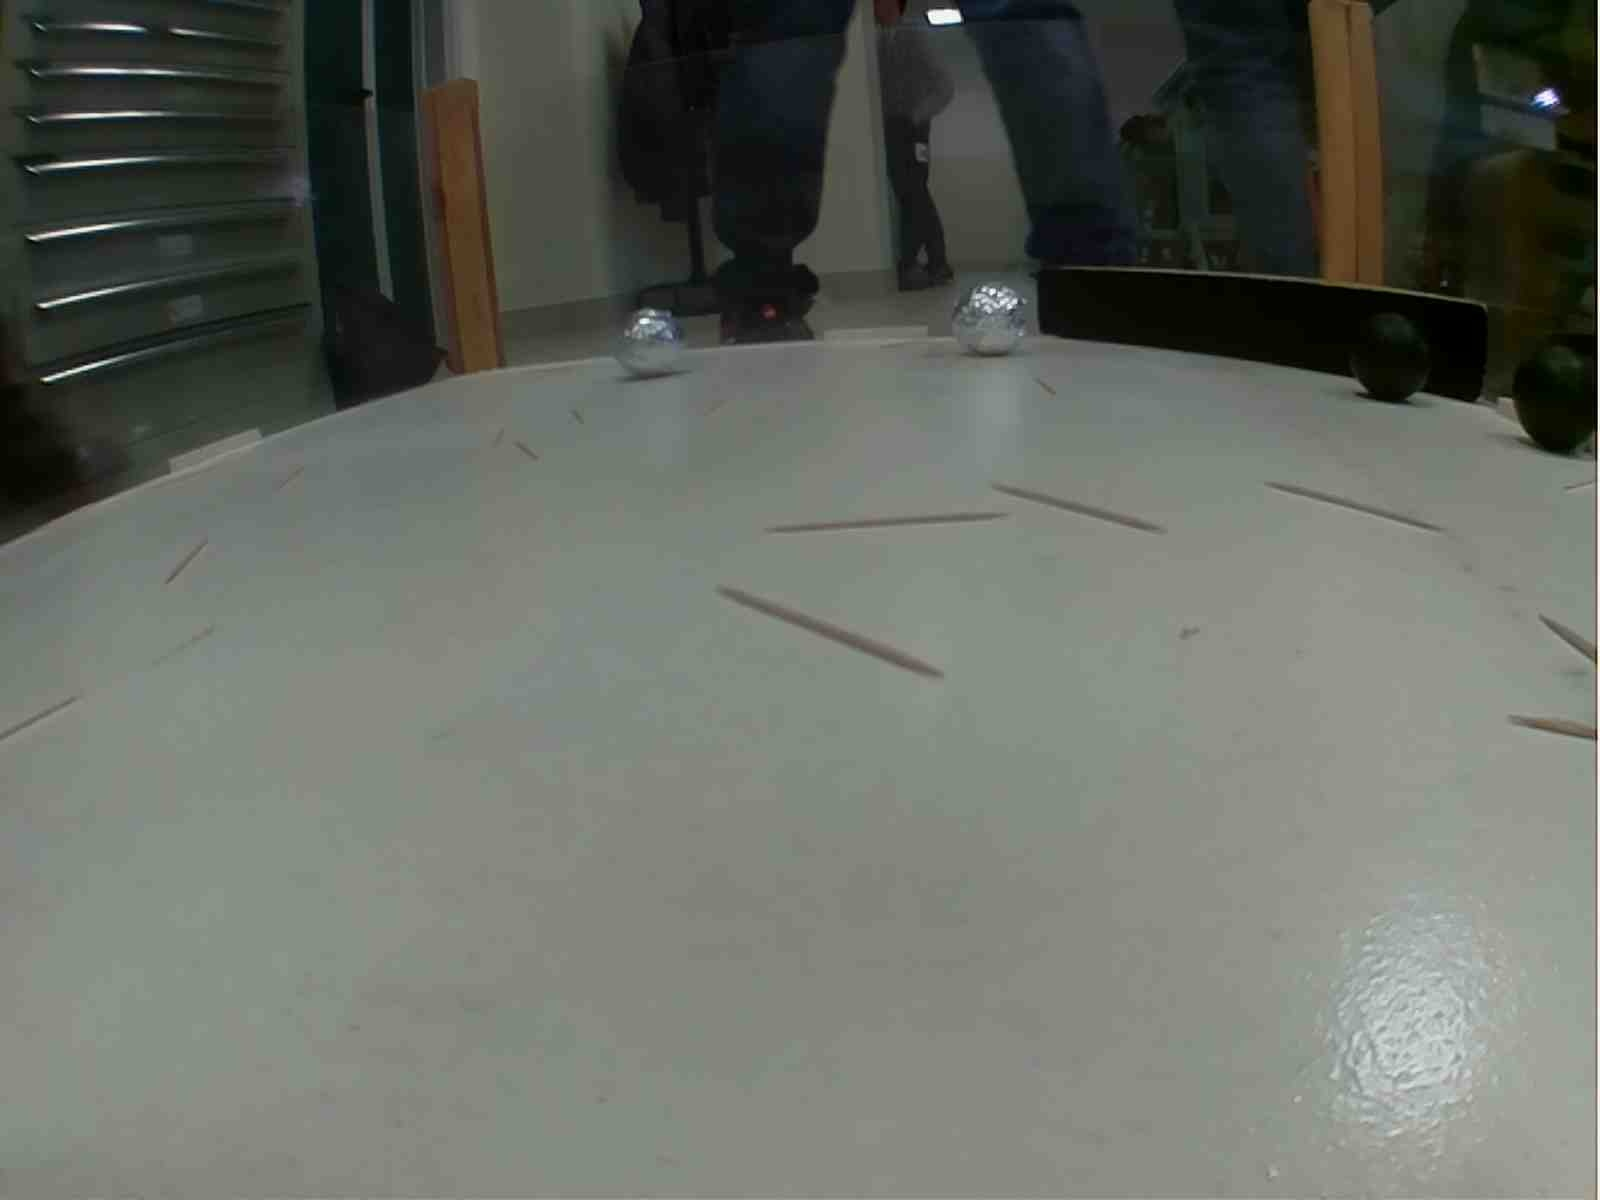bianca: (952, 277, 1027, 355), (612, 308, 687, 381)
nera: (1512, 358, 1600, 458), (1351, 301, 1436, 402)
